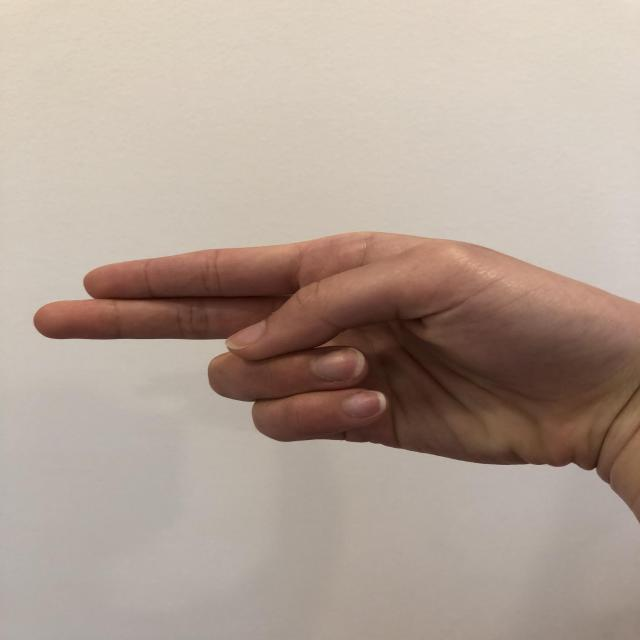H: (31, 222, 627, 472)
